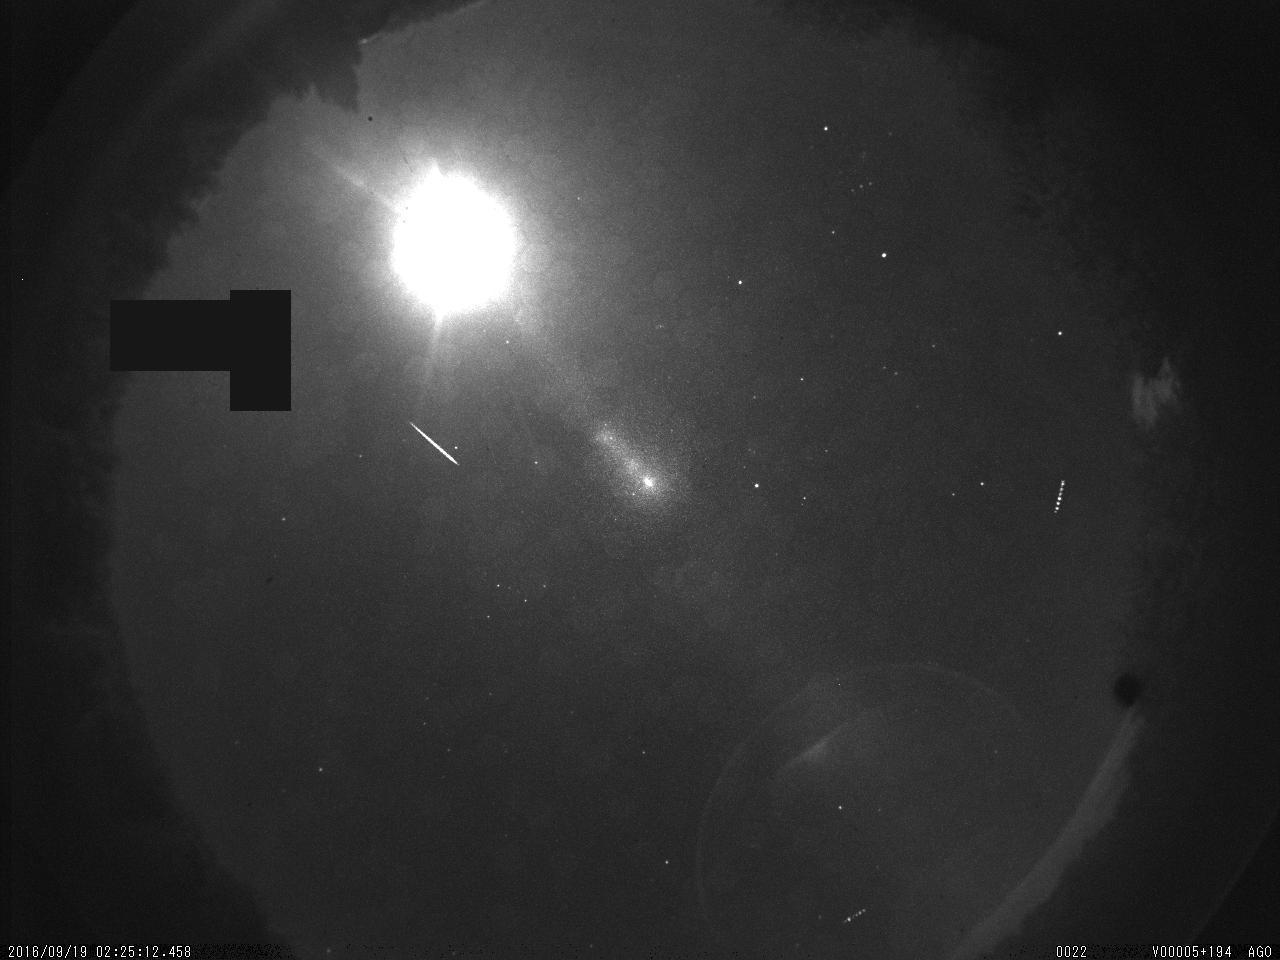meteor: (406, 410, 465, 478)
satelite: (1047, 473, 1072, 519), (845, 903, 870, 930)
